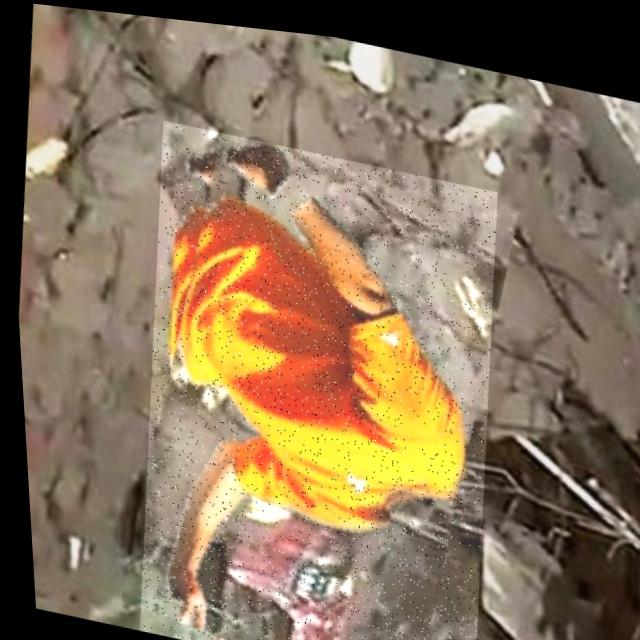Person in Rubble: (107, 111, 518, 640)
